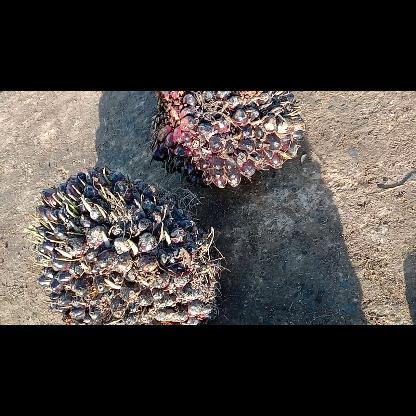TBS mentah: (32, 168, 223, 324), (144, 91, 310, 191)
